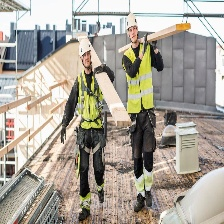helmet: (77, 38, 93, 57), (126, 15, 140, 32)
person: (122, 13, 158, 209), (72, 35, 106, 213)
vest: (124, 42, 159, 113), (76, 72, 105, 135)
